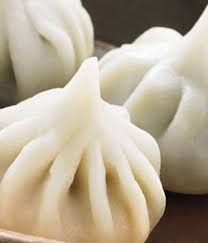modak: (1, 54, 167, 243)
